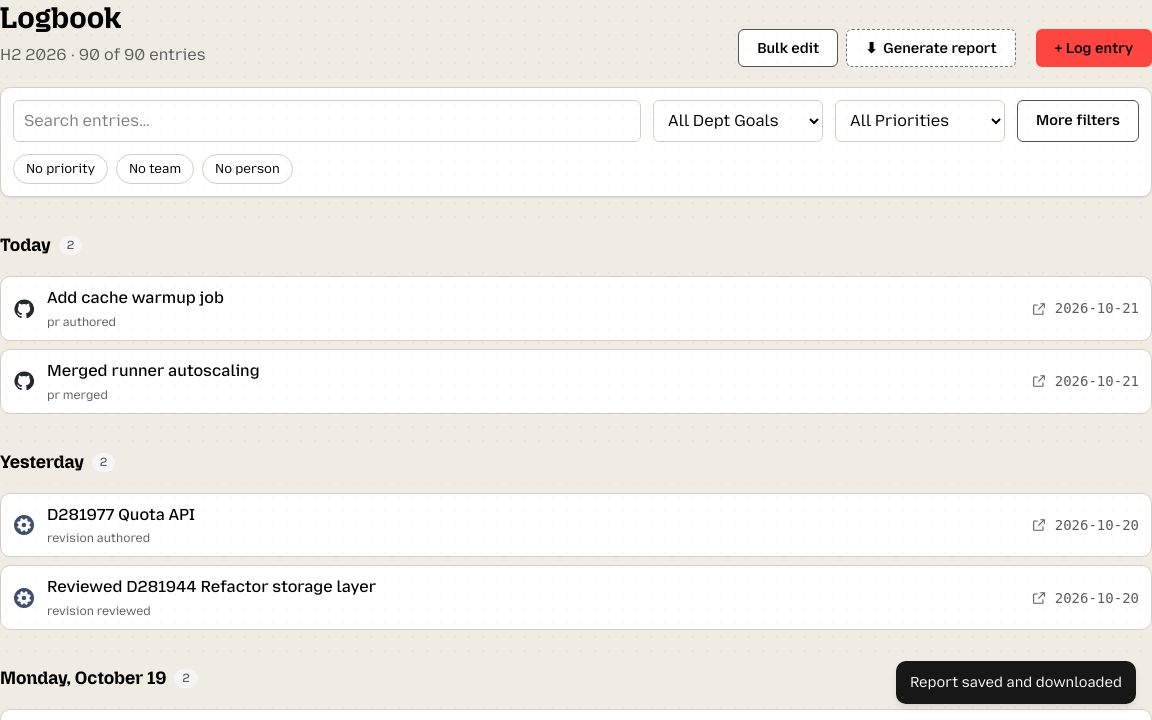
Test: Logbook report dialog › surfaces the server empty_selection rule inline
Expected: the text "H2 2026 · 90 of 90 entries" is shown, [0,42,206,67]
Click the button "⬇ Generate report" at (931, 48), box [846,29,1016,67]
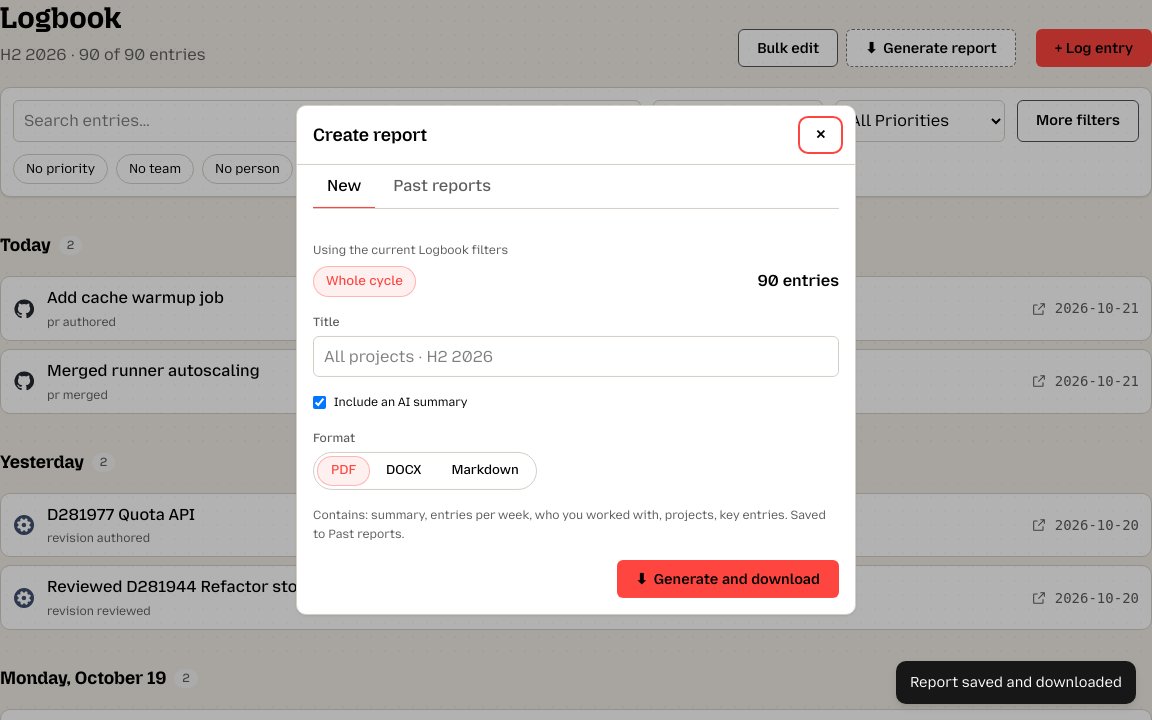
Click the button "⬇ Generate and download" at (728, 579), box [617,560,839,598]
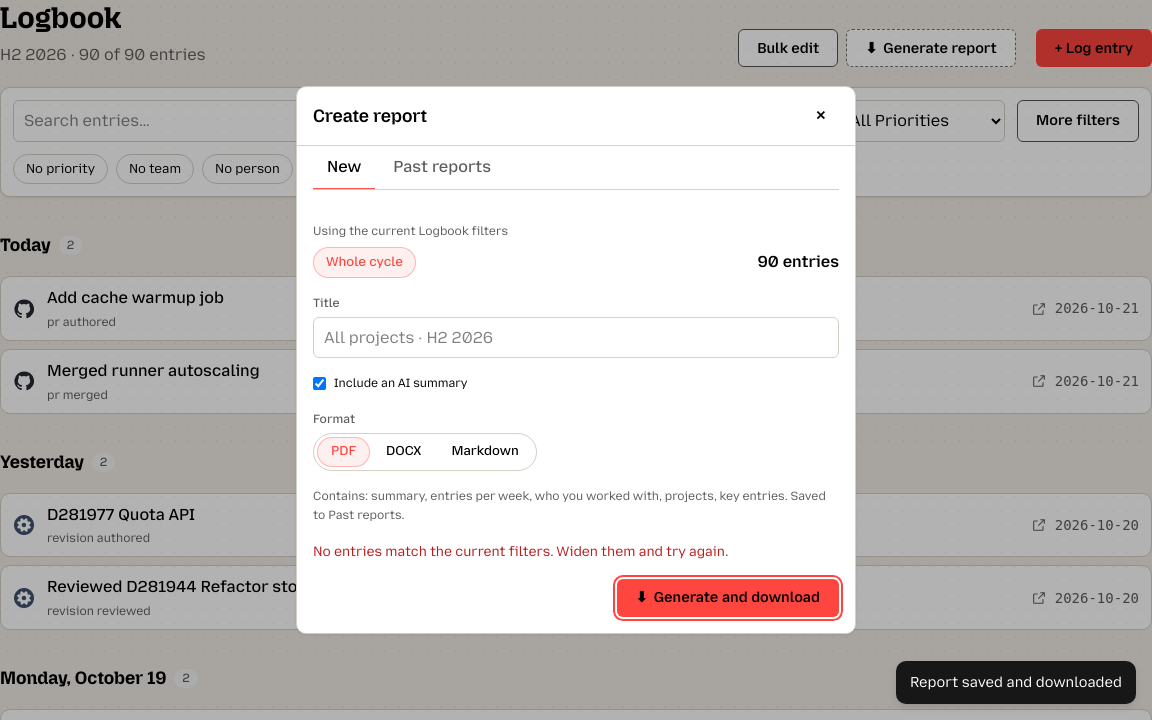
Expected: the message shows "No entries match the current filters", [313,543,728,559]
